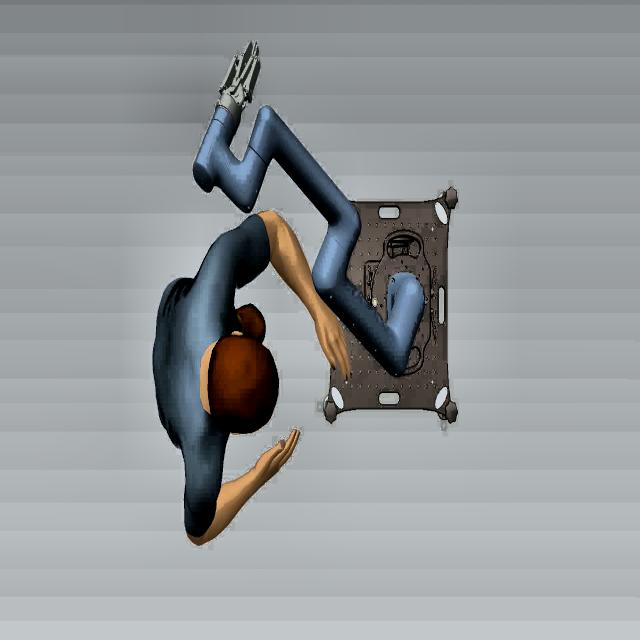robot: (189, 30, 432, 400)
